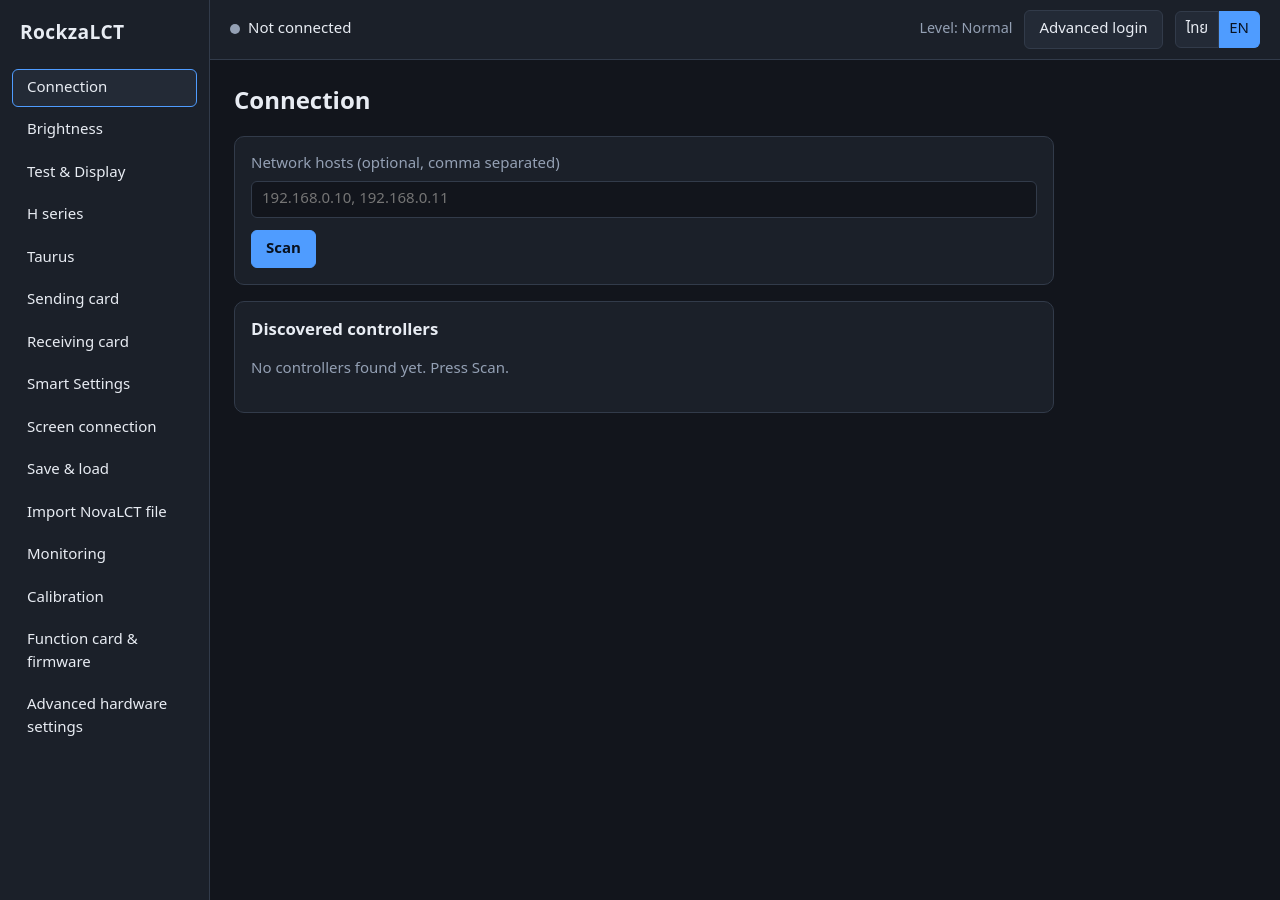
Test: SmartSettingsPage › is inert while not connected and states what is out of scope
Click the button "Smart Settings": (104, 386) x1=12 y1=366 x2=197 y2=405
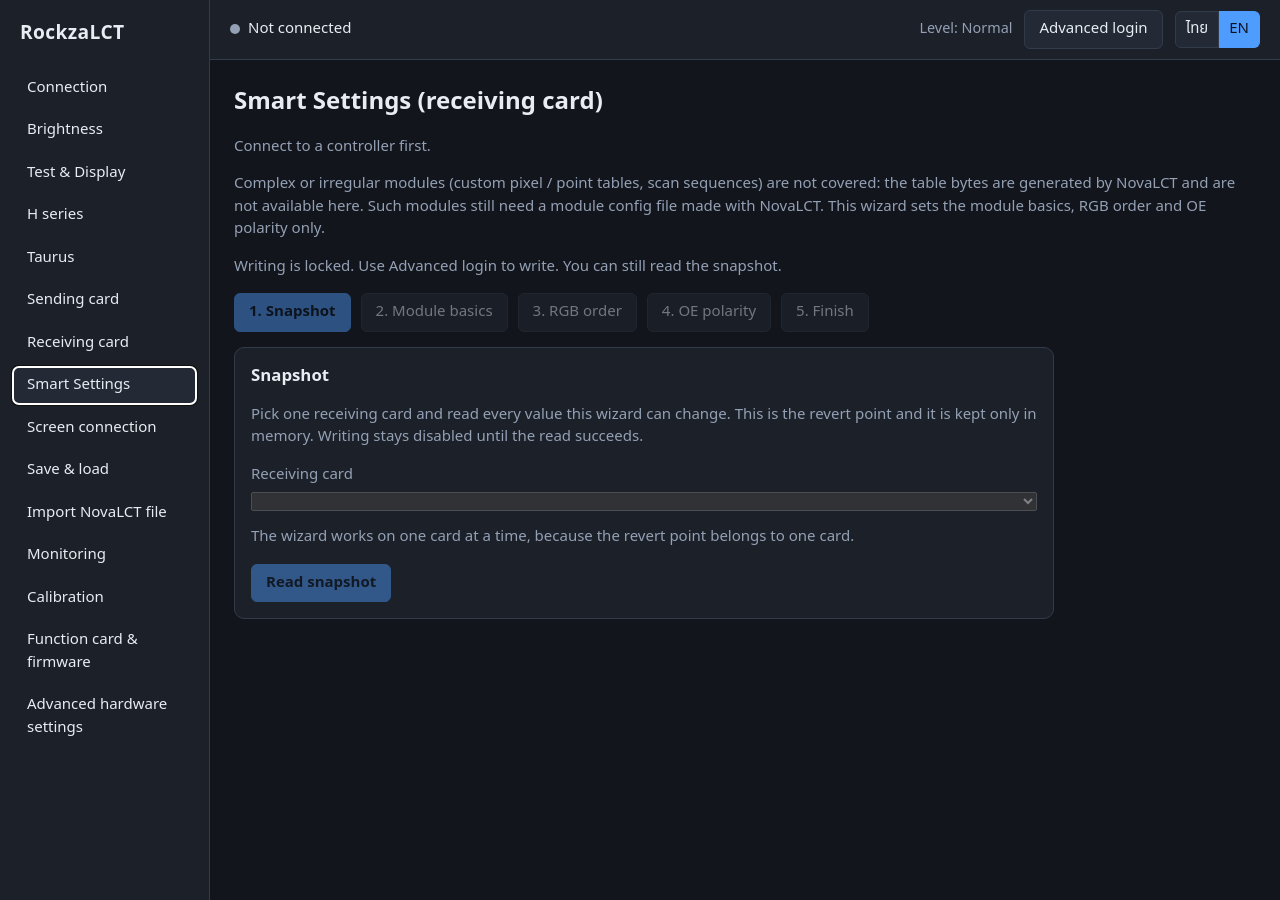
Now the text "Connect to a controller first." is shown, box x1=234 y1=134 x2=431 y2=158
Now the button "Read snapshot" is disabled, box x1=251 y1=564 x2=391 y2=602
Now the button "2. Module basics" is disabled, box x1=361 y1=293 x2=508 y2=332
